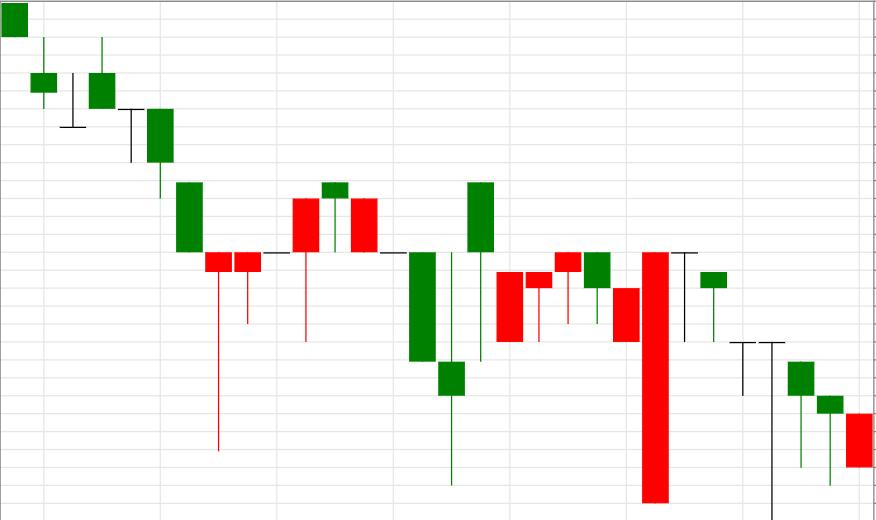hammer_rise: (672, 252, 814, 519)
